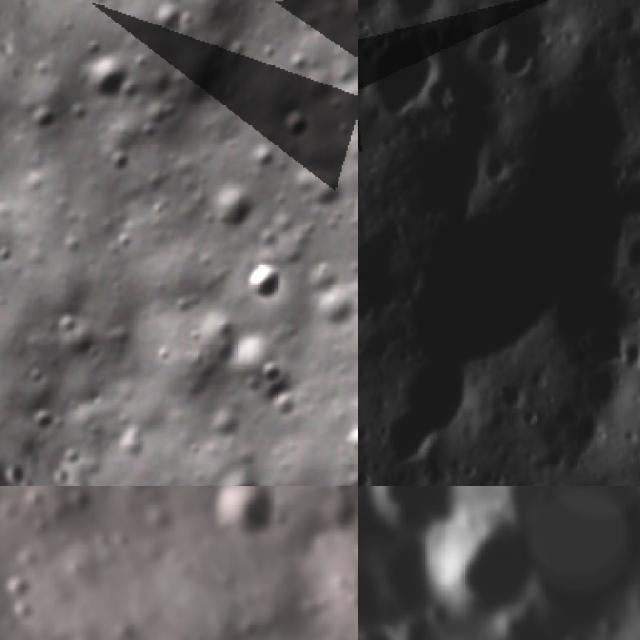crater: (406, 493, 552, 640), (358, 486, 482, 552), (191, 174, 268, 249), (68, 39, 140, 115), (373, 38, 439, 118), (248, 368, 320, 433), (205, 486, 277, 549), (238, 246, 298, 308), (143, 0, 197, 52), (394, 610, 455, 640), (278, 102, 319, 144), (340, 160, 358, 253), (198, 463, 270, 486), (22, 101, 62, 142), (422, 599, 462, 638), (474, 21, 508, 62), (1, 568, 37, 604), (0, 353, 14, 427), (620, 169, 640, 218), (508, 39, 534, 75), (330, 0, 358, 33), (516, 402, 544, 431), (620, 336, 640, 376), (556, 627, 600, 640), (384, 589, 399, 622), (623, 239, 640, 268), (358, 466, 375, 486)
